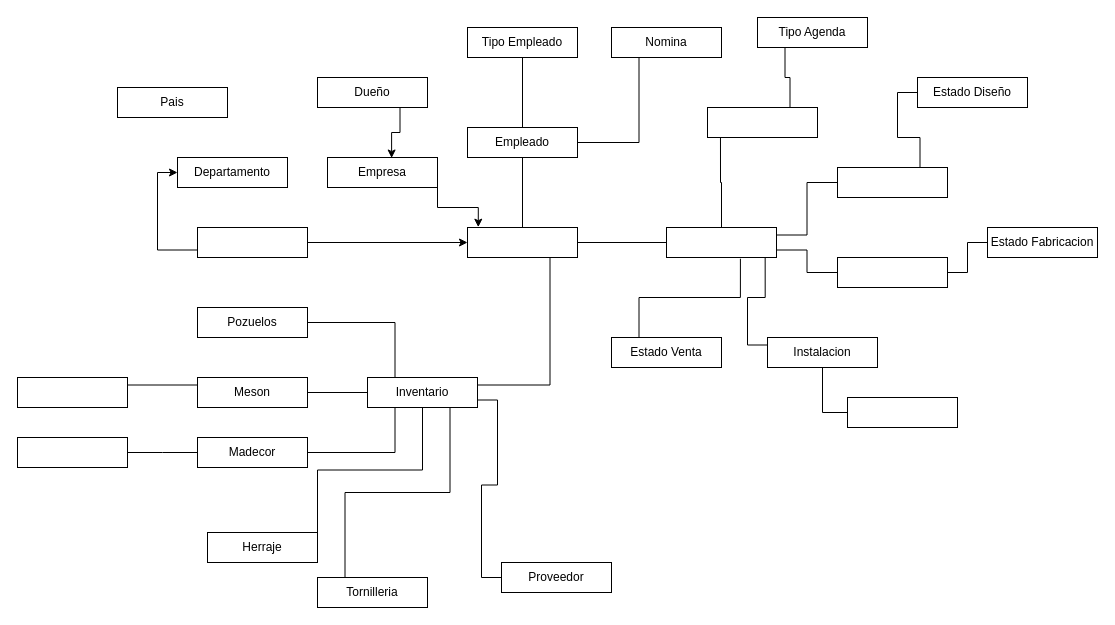
Some shapes in this 1115 by 625 pixel diagram are drawn without their labels. The centre of each missing label's shape, as x and y in pixels:
"Agenda" belongs at (762,122).
"Ciudad" belongs at (252,242).
"Diseño" belongs at (892,182).
"Estado Instalacion" belongs at (902,412).
"Fabricacion" belongs at (892,272).
"Sede" belongs at (522,242).
"Tipo Madecor" belongs at (72,452).
"Tipo Meson" belongs at (72,392).
"Venta" belongs at (721,242).
